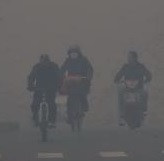person: (24, 53, 65, 143), (112, 50, 155, 133), (58, 44, 96, 133)
